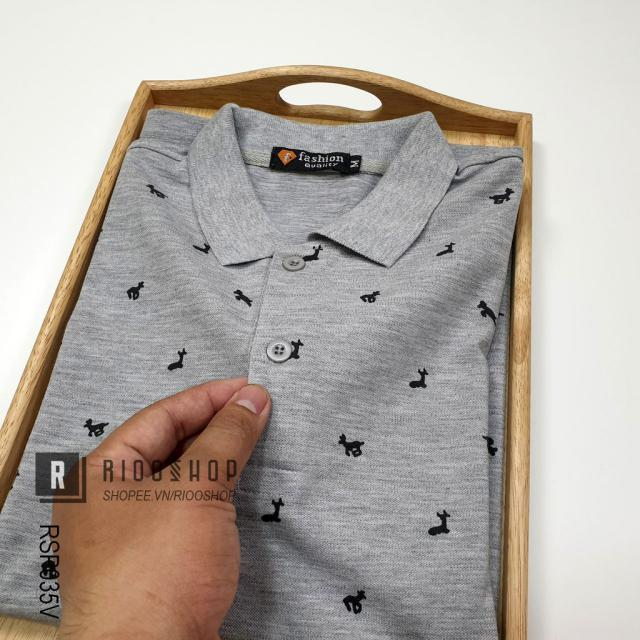shirt: (0, 100, 519, 640)
